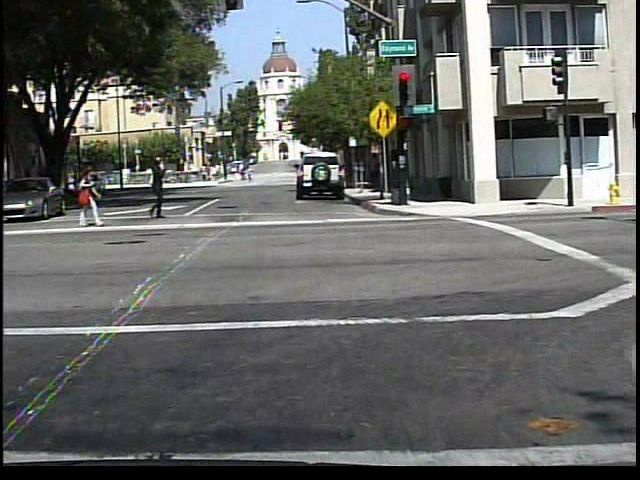person: (135, 157, 173, 222), (68, 162, 103, 229), (244, 167, 255, 186), (236, 167, 246, 185)
